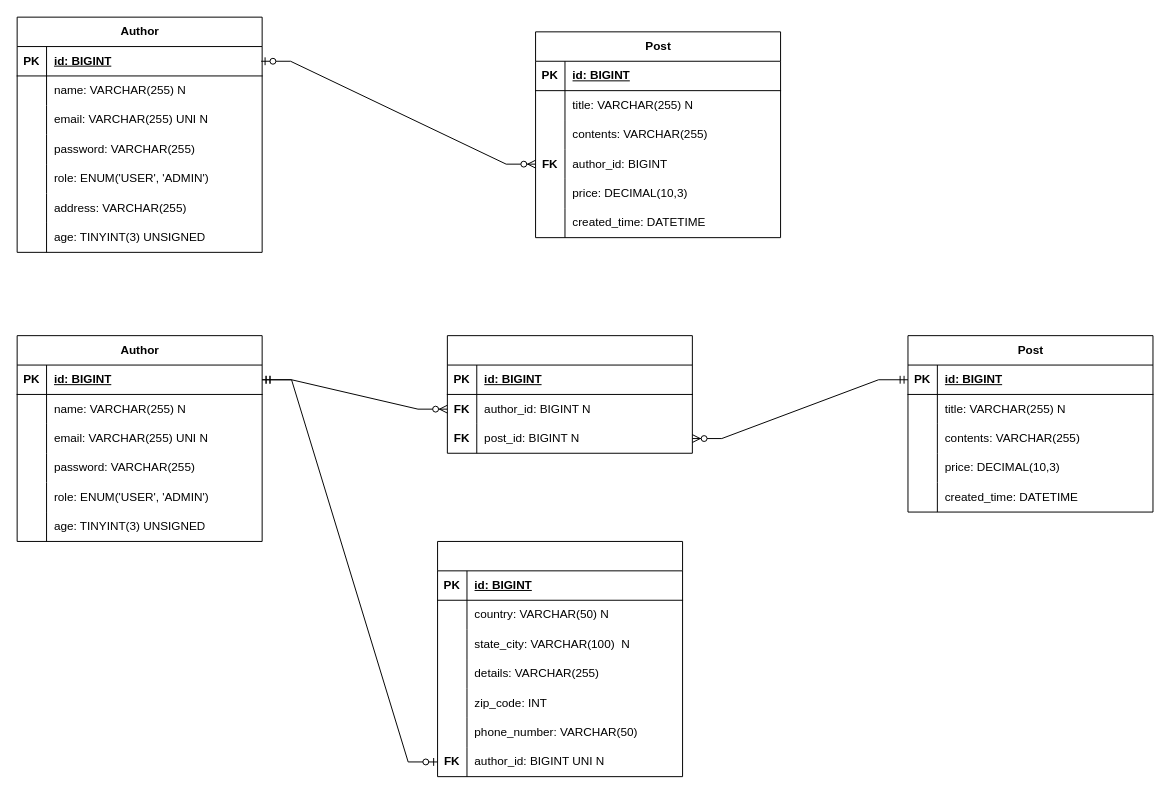
Image size: 1170x794. Some labels were removed from this diagram. Here are the shapes that lost their labels. From the top down, the box of each, then its label:
(446, 335, 692, 453): Post_Authors
(437, 540, 683, 777): Author_address
